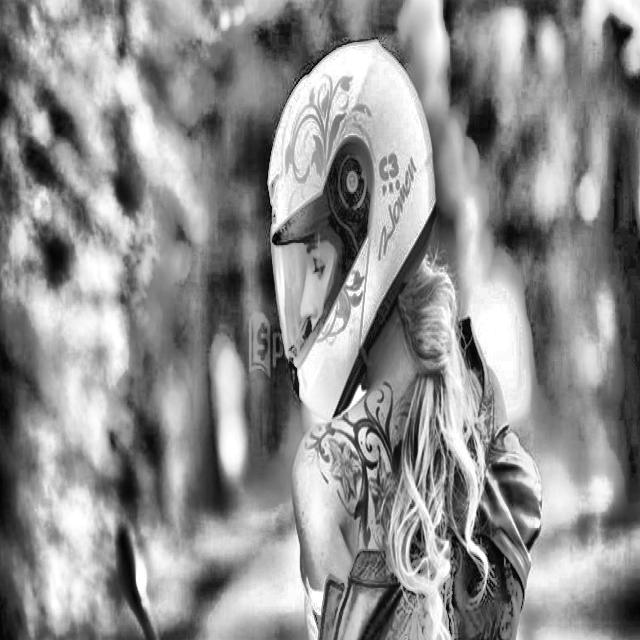Helmet: (262, 34, 441, 417)
